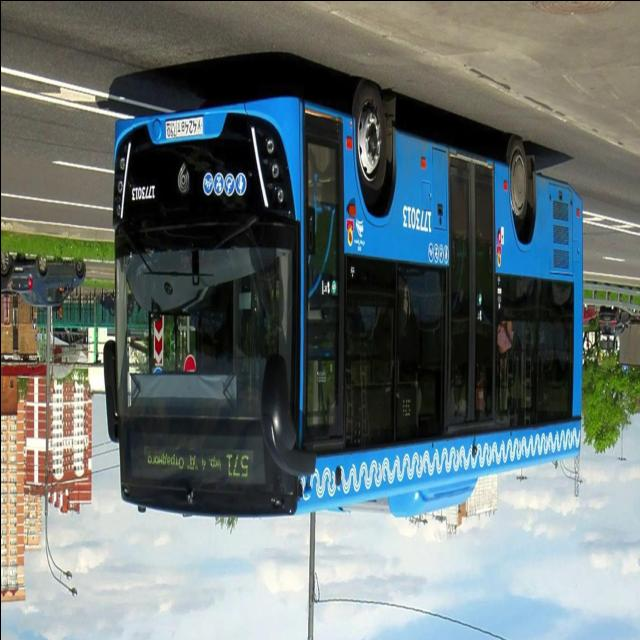bus: (93, 75, 588, 521)
